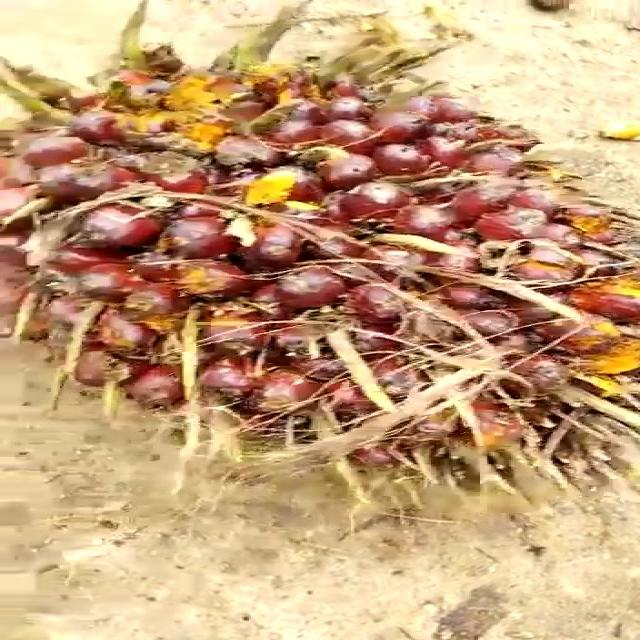palm oil: (0, 34, 640, 488)
